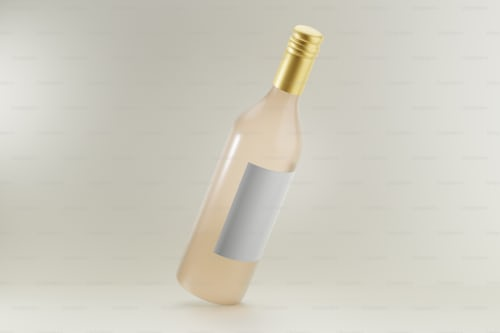Bottle: (171, 23, 337, 312)
